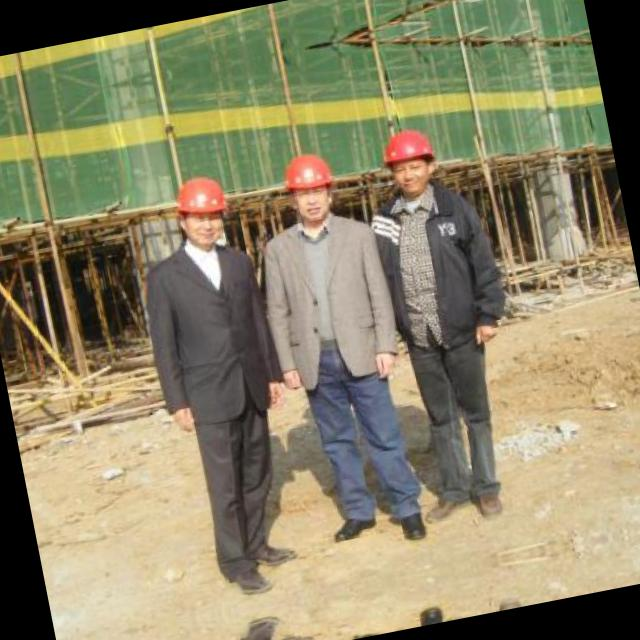helmet: (272, 144, 344, 231), (166, 168, 234, 256), (374, 120, 446, 203)
